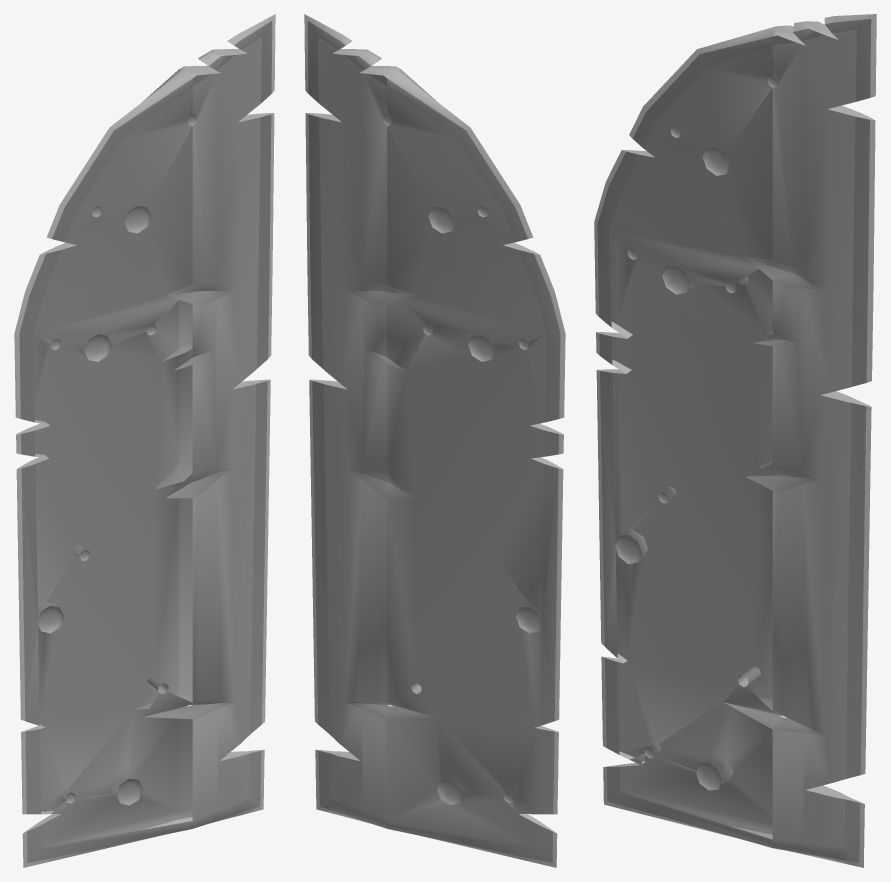
The model's file is stone_blade_bubbles_054.glb.
3 views of the same model, side by side, from view 1: azimuth 30°, elevation 25°; view 2: azimuth 150°, elevation 25°; view 3: azimuth 330°, elevation 25° (orthographic). The views are drawn at different scales.
Visible parts, largest first — view 1: stone_blade_bubbles.054; view 2: stone_blade_bubbles.054; view 3: stone_blade_bubbles.054.
Boxes of the visible parts, x1=… form: stone_blade_bubbles.054: x1=14, y1=14, x2=275, y2=867; stone_blade_bubbles.054: x1=304, y1=14, x2=565, y2=867; stone_blade_bubbles.054: x1=594, y1=14, x2=876, y2=867.
Size of the model in its own units: 4.15 by 12.06 by 0.3631.
1 material, 1 textured.
